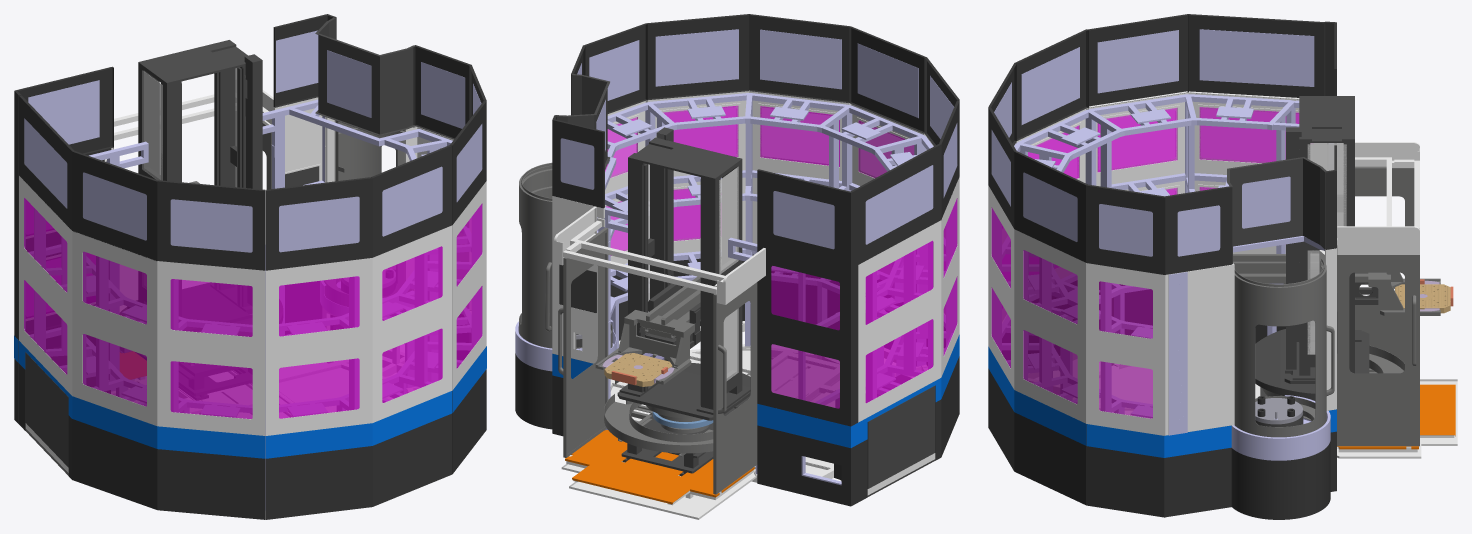
File: Multi_RPS.gltf
3 views of the same model, side by side, from view 1: azimuth 30°, elevation 25°; view 2: azimuth 150°, elevation 25°; view 3: azimuth 270°, elevation 25° (orthographic). The views are drawn at different scales.
Parts seen in each view (by area): view 1: RPS COVER198, RPS COVER193, RPS COVER203, RPS COVER188, RPS COVER070, RPS COVER068, RPS COVER448, RPS COVER072, RPS COVER462, RPS COVER460, RPS COVER066, RPS COVER208 (+68 smaller); view 2: RPS COVER213, RPS COVER208, RPS RIGHT DOOR001, RPS LEFT DOOR, RPS COVER467, RPS COVER165, RPS SETUP DOOR, RPS COVER076, RPS COVER455, RPS COVER457, RPS COVER456, RPS COVER458 (+77 smaller); view 3: RPS RIGHT DOOR001, RPS COVER175, RPS SETUP DOOR, RPS COVER178, RPS COVER183, RPS COVER465, RPS COVER057, RPS COVER448, RPS COVER466, RPS COVER062, RPS COVER064, RPS COVER463 (+70 smaller).
Boxes of the visible parts, x1,y1,x2,y2 form: RPS COVER198: (157,261,265,435); RPS COVER193: (266,258,372,435); RPS COVER203: (72,231,157,425); RPS COVER188: (372,225,452,422); RPS COVER070: (157,449,265,519); RPS COVER068: (266,446,372,519); RPS COVER448: (315,17,415,135); RPS COVER072: (72,419,157,509); RPS COVER462: (157,180,265,270); RPS COVER460: (266,177,372,270); RPS COVER066: (372,413,452,506); RPS COVER208: (19,176,72,395); RPS COVER213: (757,246,858,426); RPS COVER208: (858,220,941,422); RPS RIGHT DOOR001: (563,227,608,457); RPS LEFT DOOR: (713,282,757,494); RPS COVER467: (757,169,858,268); RPS COVER165: (757,425,858,506); RPS SETUP DOOR: (519,165,552,348); RPS COVER076: (867,386,935,488); RPS COVER455: (655,29,738,86); RPS COVER457: (760,29,841,89); RPS COVER456: (646,14,749,100); RPS COVER458: (749,14,850,102); RPS RIGHT DOOR001: (1337,245,1419,446); RPS COVER175: (1165,263,1234,435); RPS SETUP DOOR: (1234,260,1326,437); RPS COVER178: (1086,263,1165,435); RPS COVER183: (1014,229,1086,423); RPS COVER465: (1199,29,1314,86); RPS COVER057: (1231,441,1330,519); RPS COVER448: (1227,157,1327,263); RPS COVER466: (1188,14,1325,99); RPS COVER062: (1086,446,1164,517); RPS COVER064: (1014,412,1086,505); RPS COVER463: (1097,30,1178,93).
Size of what is drawn, in the model's own units: 3.97 by 3.21 by 4.22.
